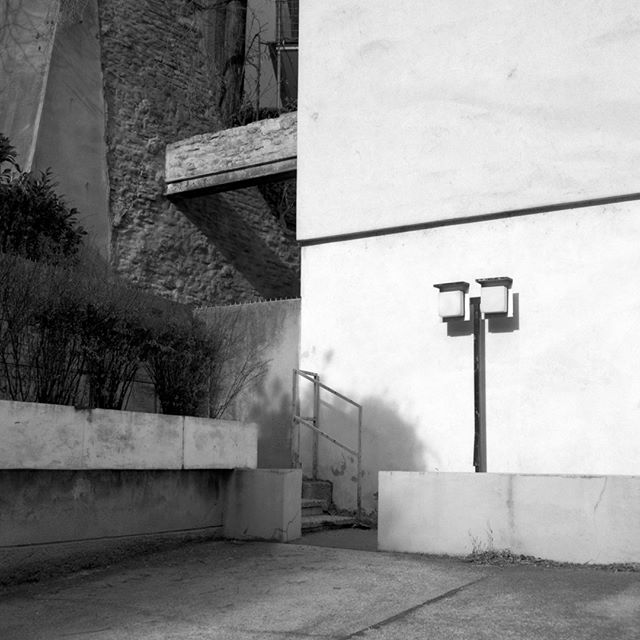building: (8, 1, 640, 637)
